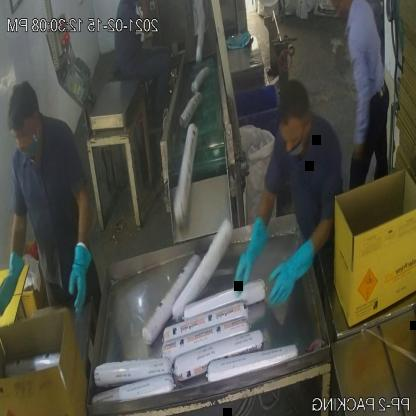glove: (264, 223, 322, 319), (63, 181, 102, 319), (0, 191, 35, 318), (233, 207, 273, 298)
no_glove: (342, 32, 380, 168)
